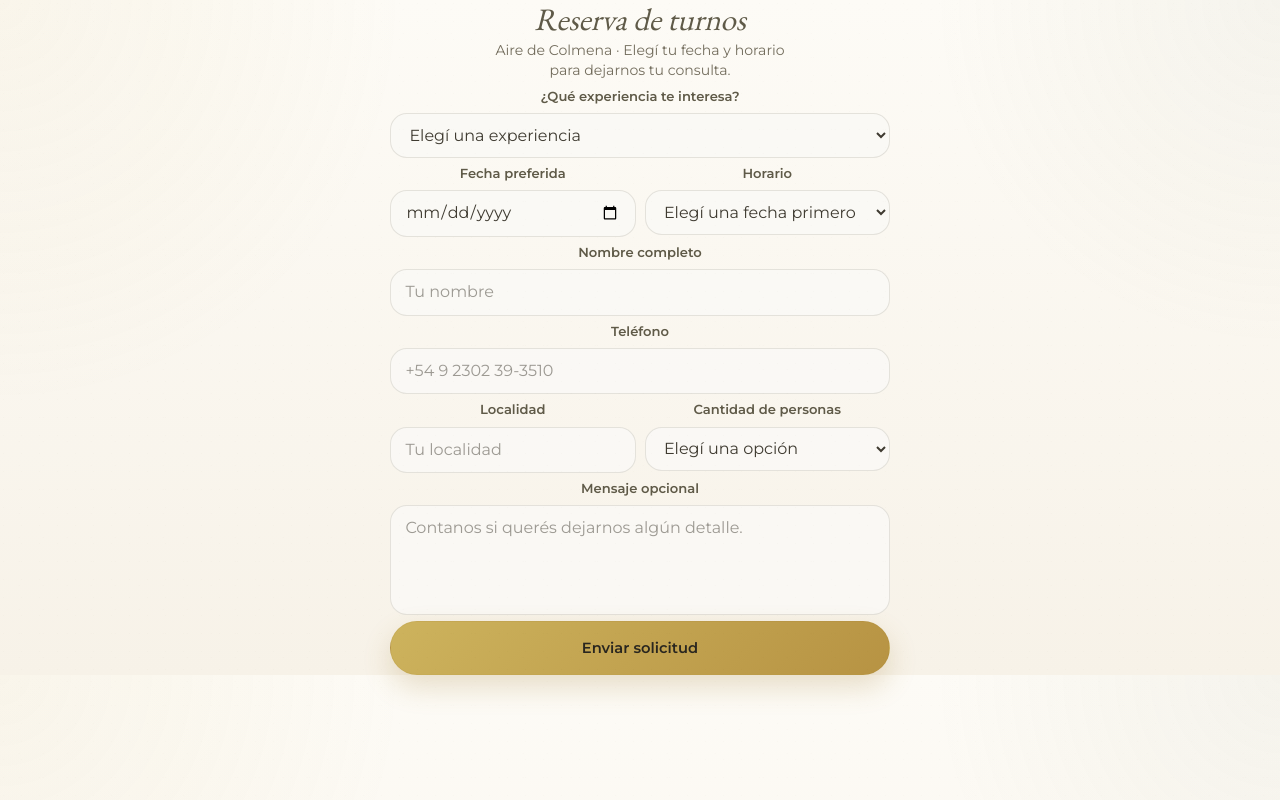
BookingForm › muestra éxito y no exige un segundo click para WhatsApp
Type "2026-12-15" into the date field labelled "Fecha preferida".
click(513, 213); type("2026-12-15")  # box [390,190,636,237]
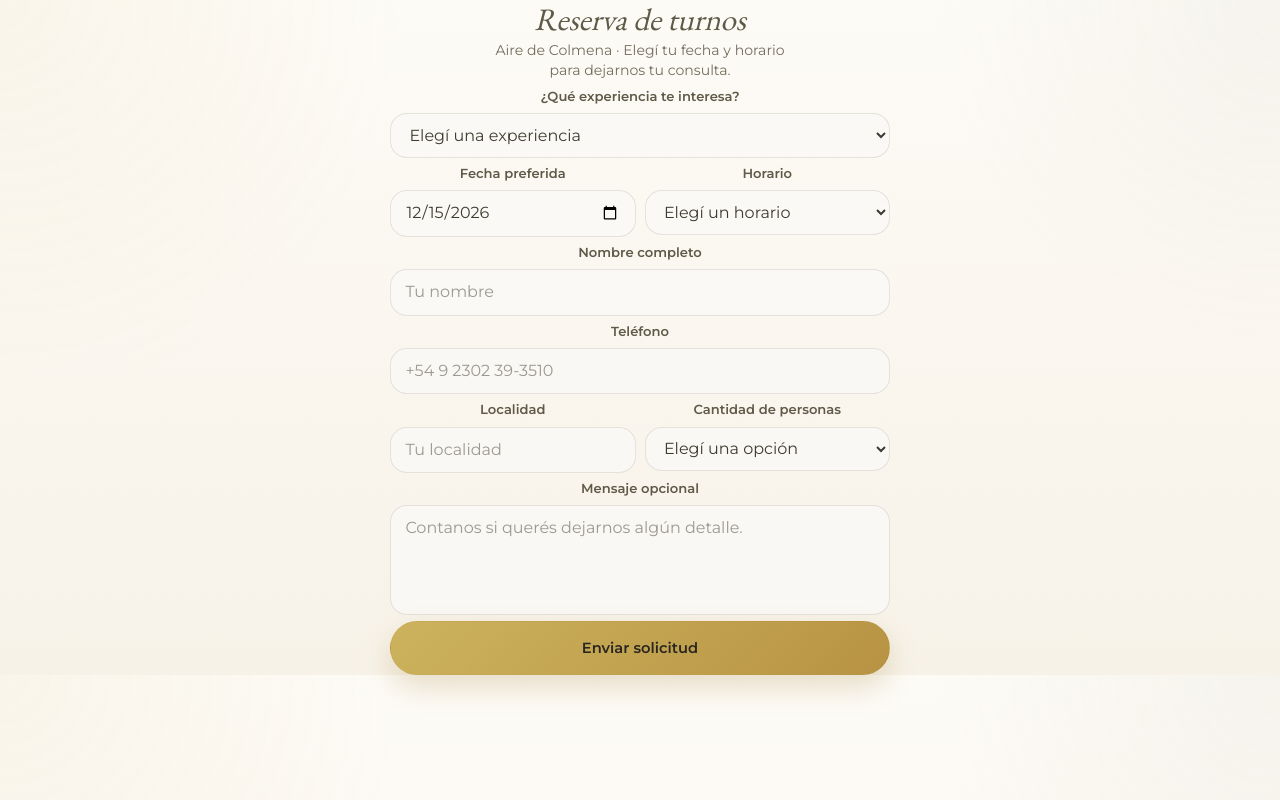
Select "18:00" in the dropdown labelled "Horario" at (767, 212), box [644,190,890,235]
Select "Aire de Colmena" in the dropdown labelled "¿Qué experiencia te interesa?" at (640, 135), box [390,113,890,158]
Type "María Pérez" into the field labelled "Nombre completo".
click(640, 292); type("María Pérez")  # box [390,269,890,316]
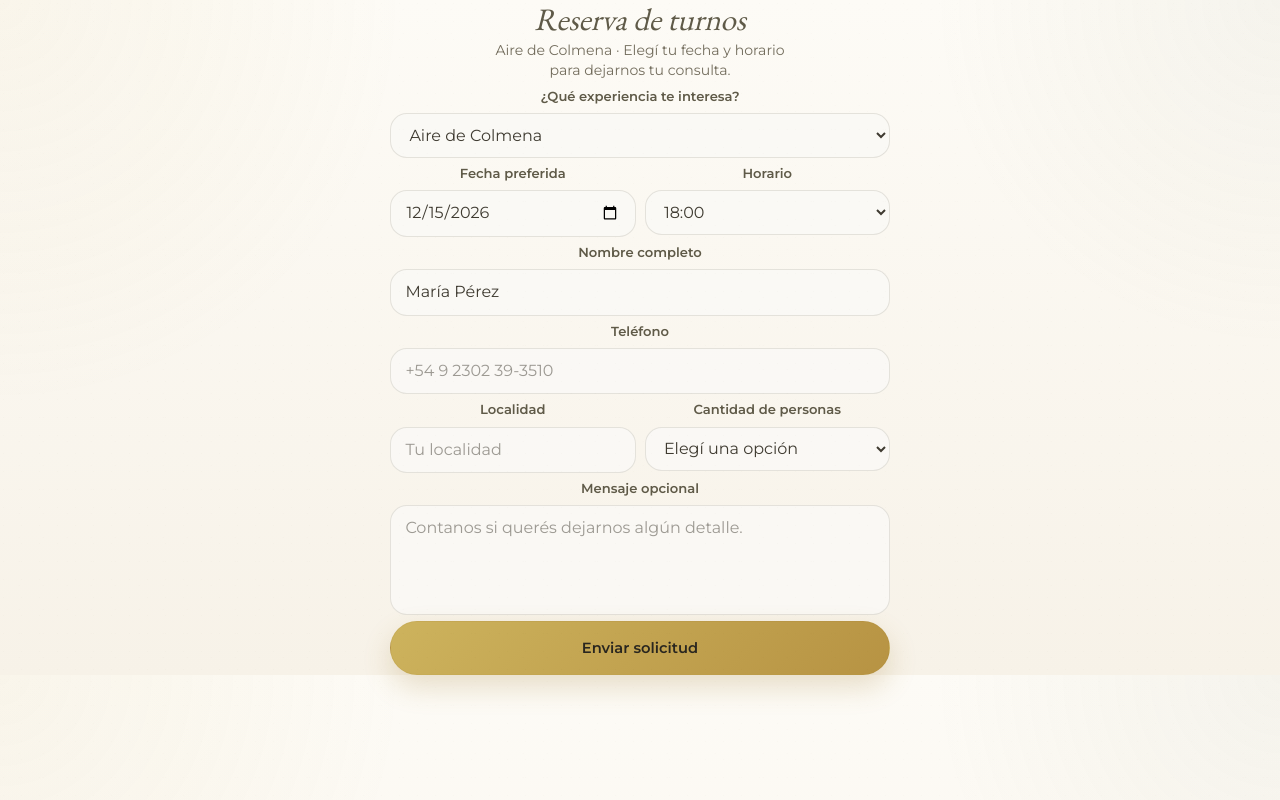
Type "+5492302123456" into the field labelled "Teléfono".
click(640, 371); type("+5492302123456")  # box [390,348,890,394]
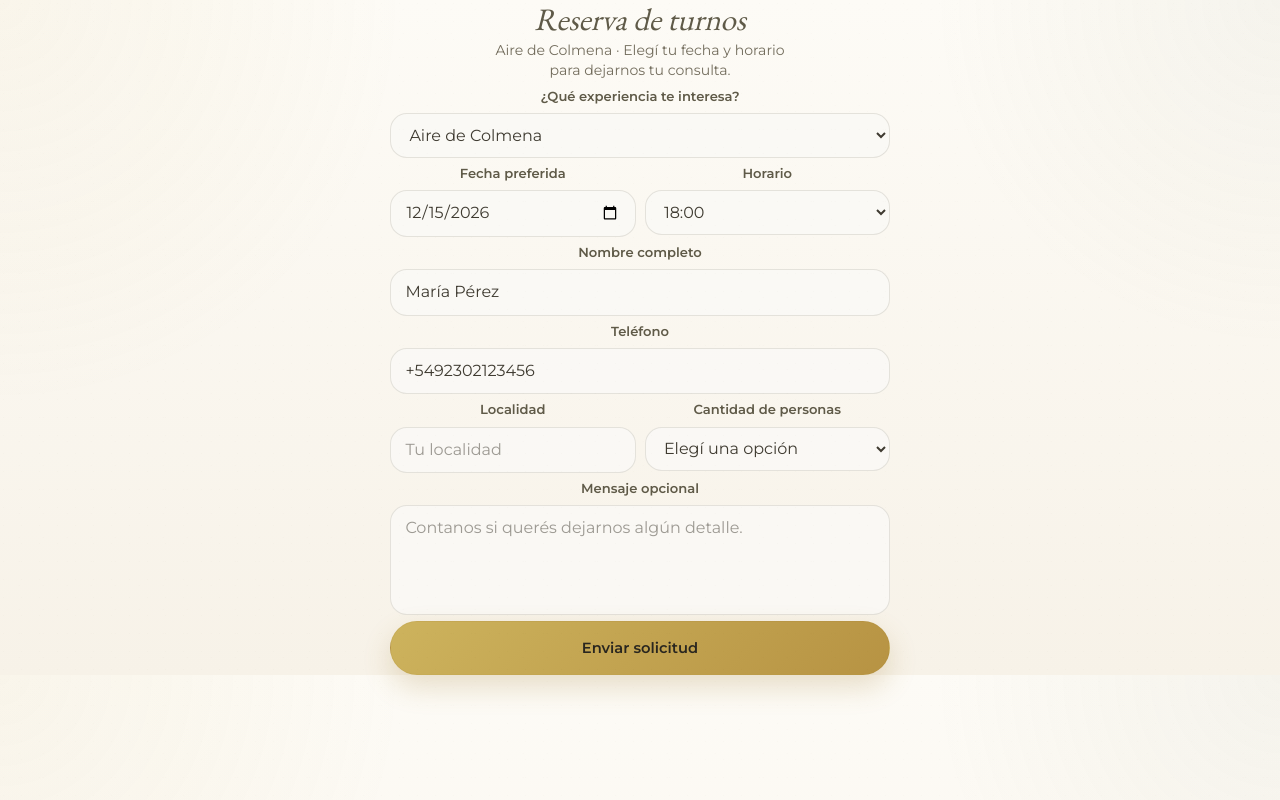
Type "General Pico" into the field labelled "Localidad".
click(513, 450); type("General Pico")  # box [390,426,636,473]
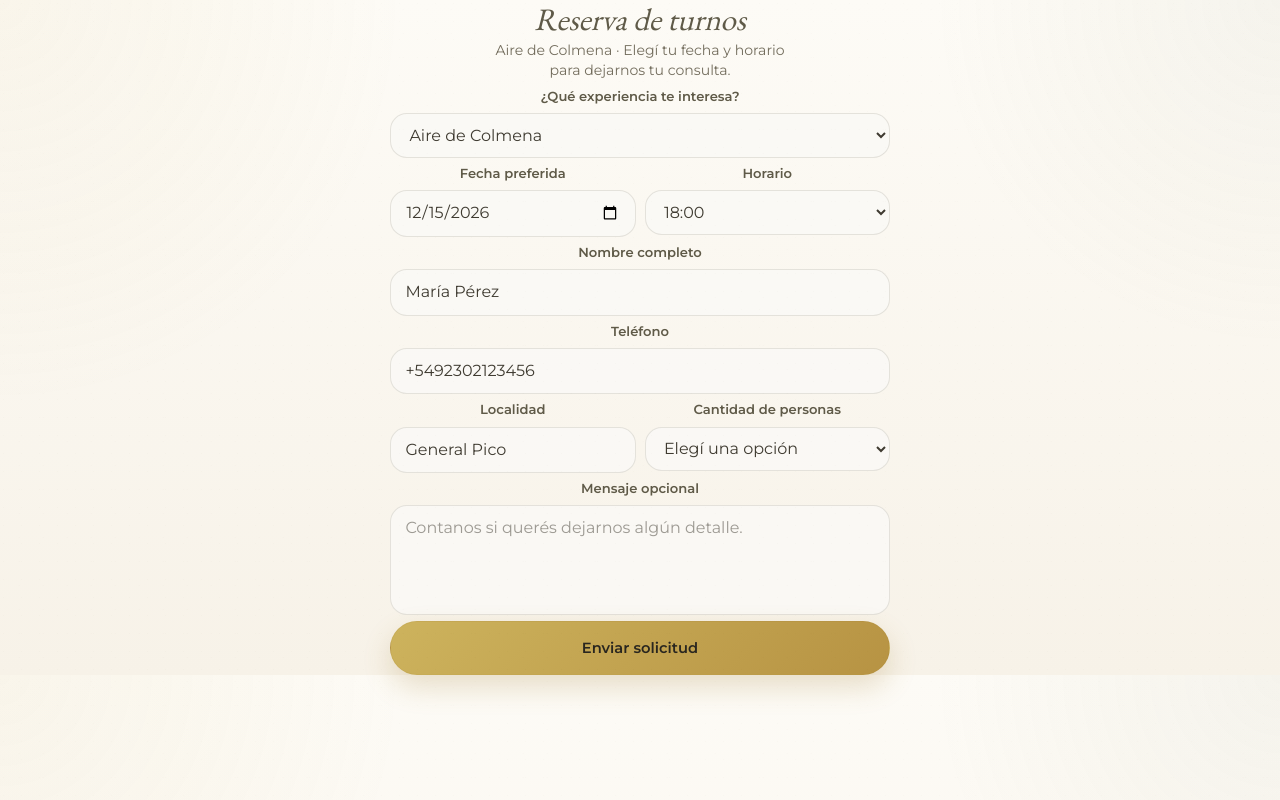
Select "2 personas" in the dropdown labelled "Cantidad de personas" at (767, 449), box [644,426,890,471]
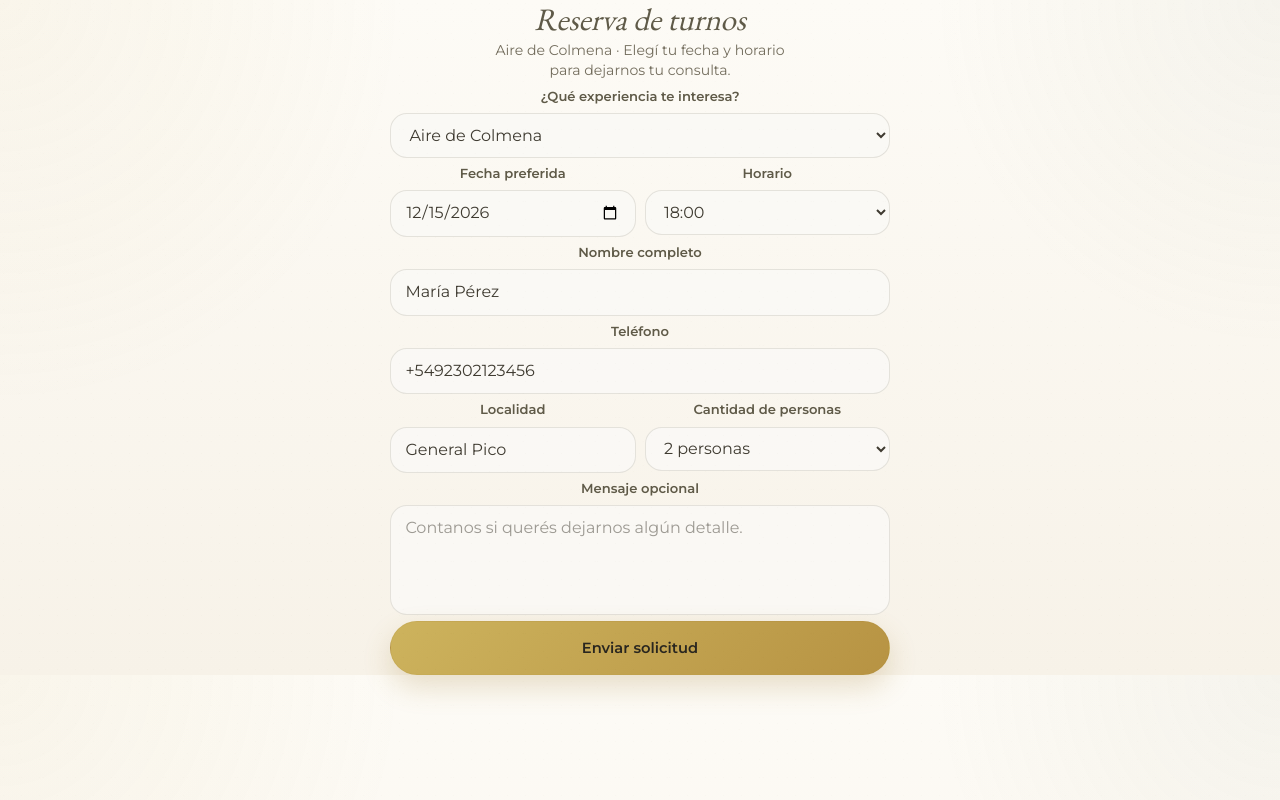
Click the button "Enviar solicitud".
click(640, 648)  # box [390,620,890,675]
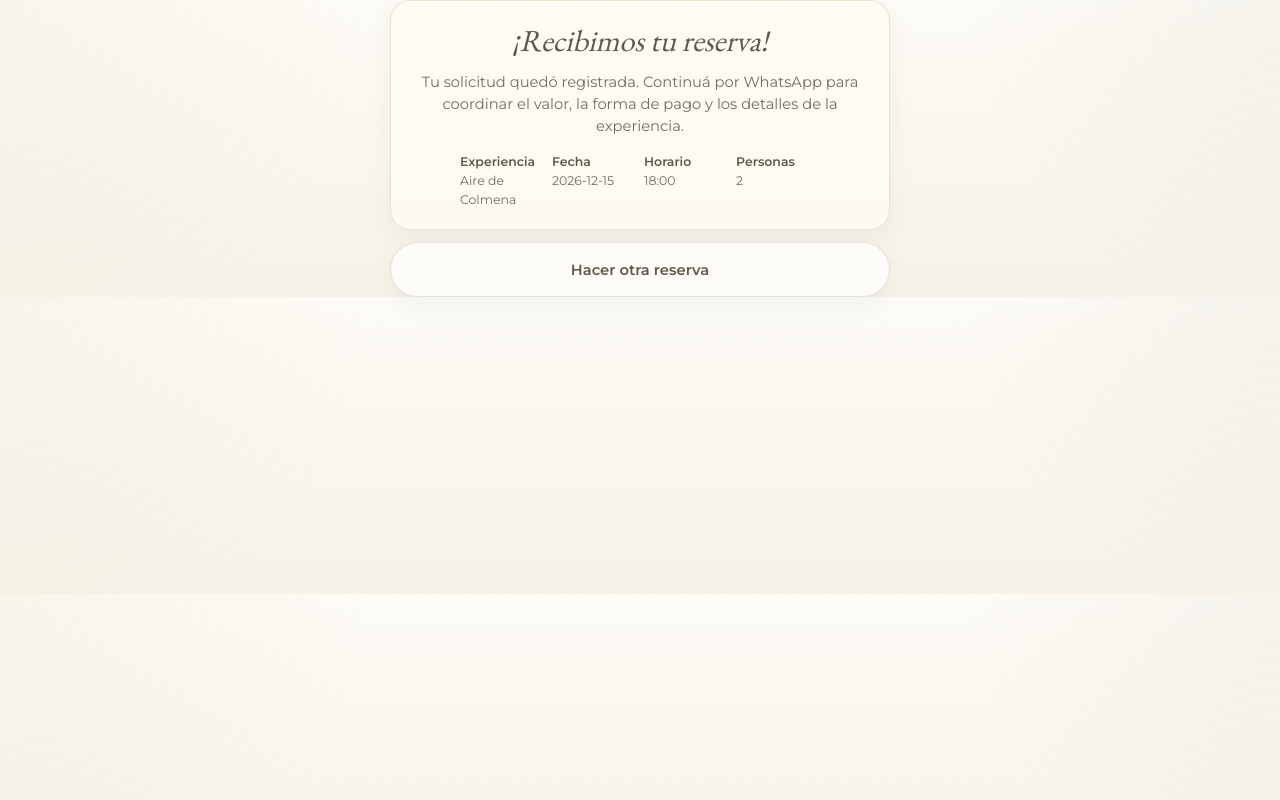
Expected: the heading "¡Recibimos tu reserva!" is shown, [512,20,768,60]
Expected: the text "Tu solicitud quedó registrada" is shown, [422,73,858,135]
Expected: the text "Experiencia" is shown, [460,153,544,172]
